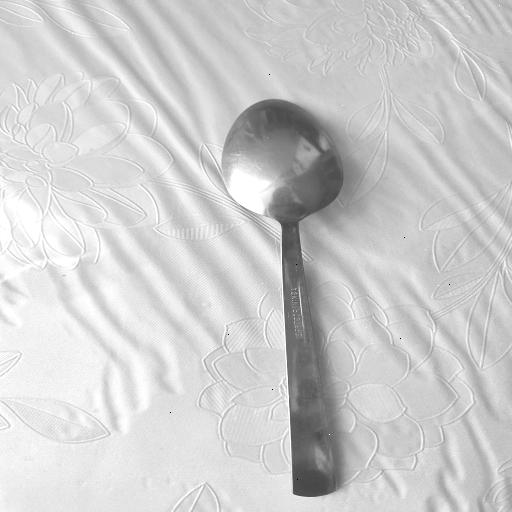spoon: (216, 98, 348, 484)
